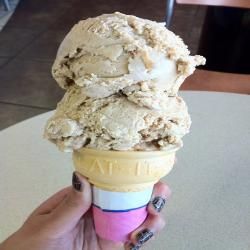icecream: (35, 11, 206, 158)
